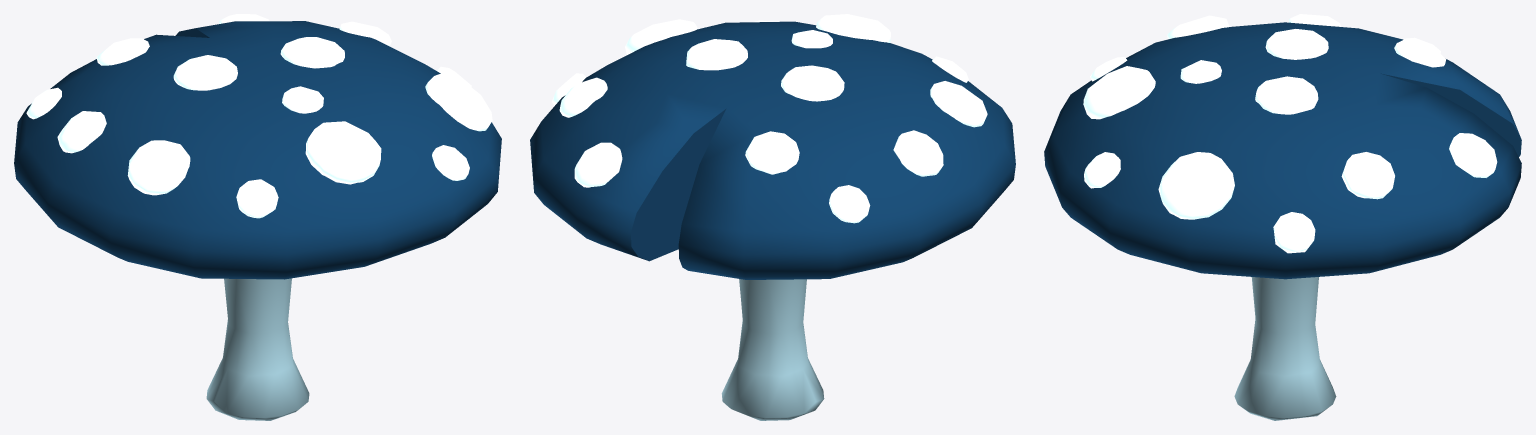
Rendered from BlueMushroom.fbx.
3 views of the same model, side by side, from view 1: azimuth 30°, elevation 25°; view 2: azimuth 150°, elevation 25°; view 3: azimuth 270°, elevation 25° (orthographic).
Parts seen in each view (by area): view 1: BlueMushroom; view 2: BlueMushroom; view 3: BlueMushroom.
Part boxes in pixels (x1=…): BlueMushroom: x1=14, y1=14, x2=501, y2=420; BlueMushroom: x1=530, y1=14, x2=1015, y2=420; BlueMushroom: x1=1044, y1=14, x2=1521, y2=420.
Size of the model in its own units: 145 by 115 by 142.
